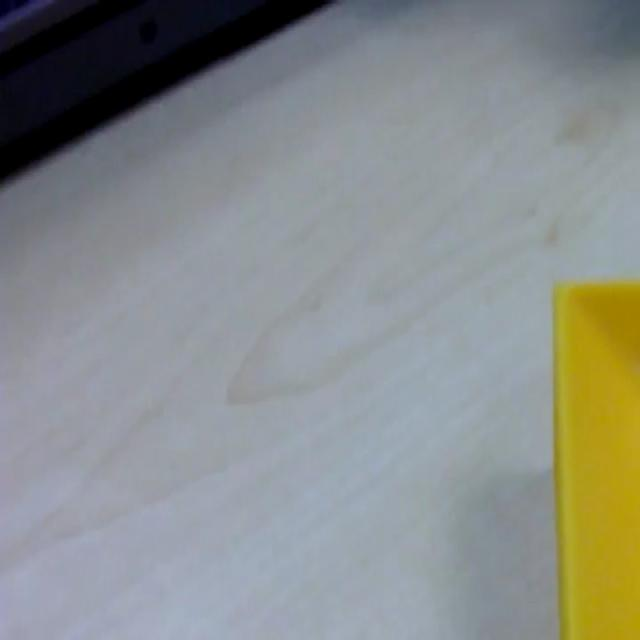yellow_block: (550, 276, 638, 636)
